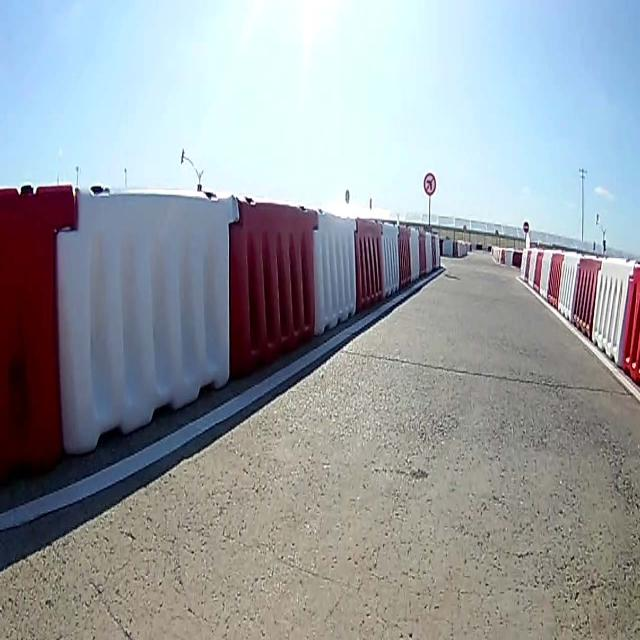soladonulmez: (423, 170, 436, 197)
